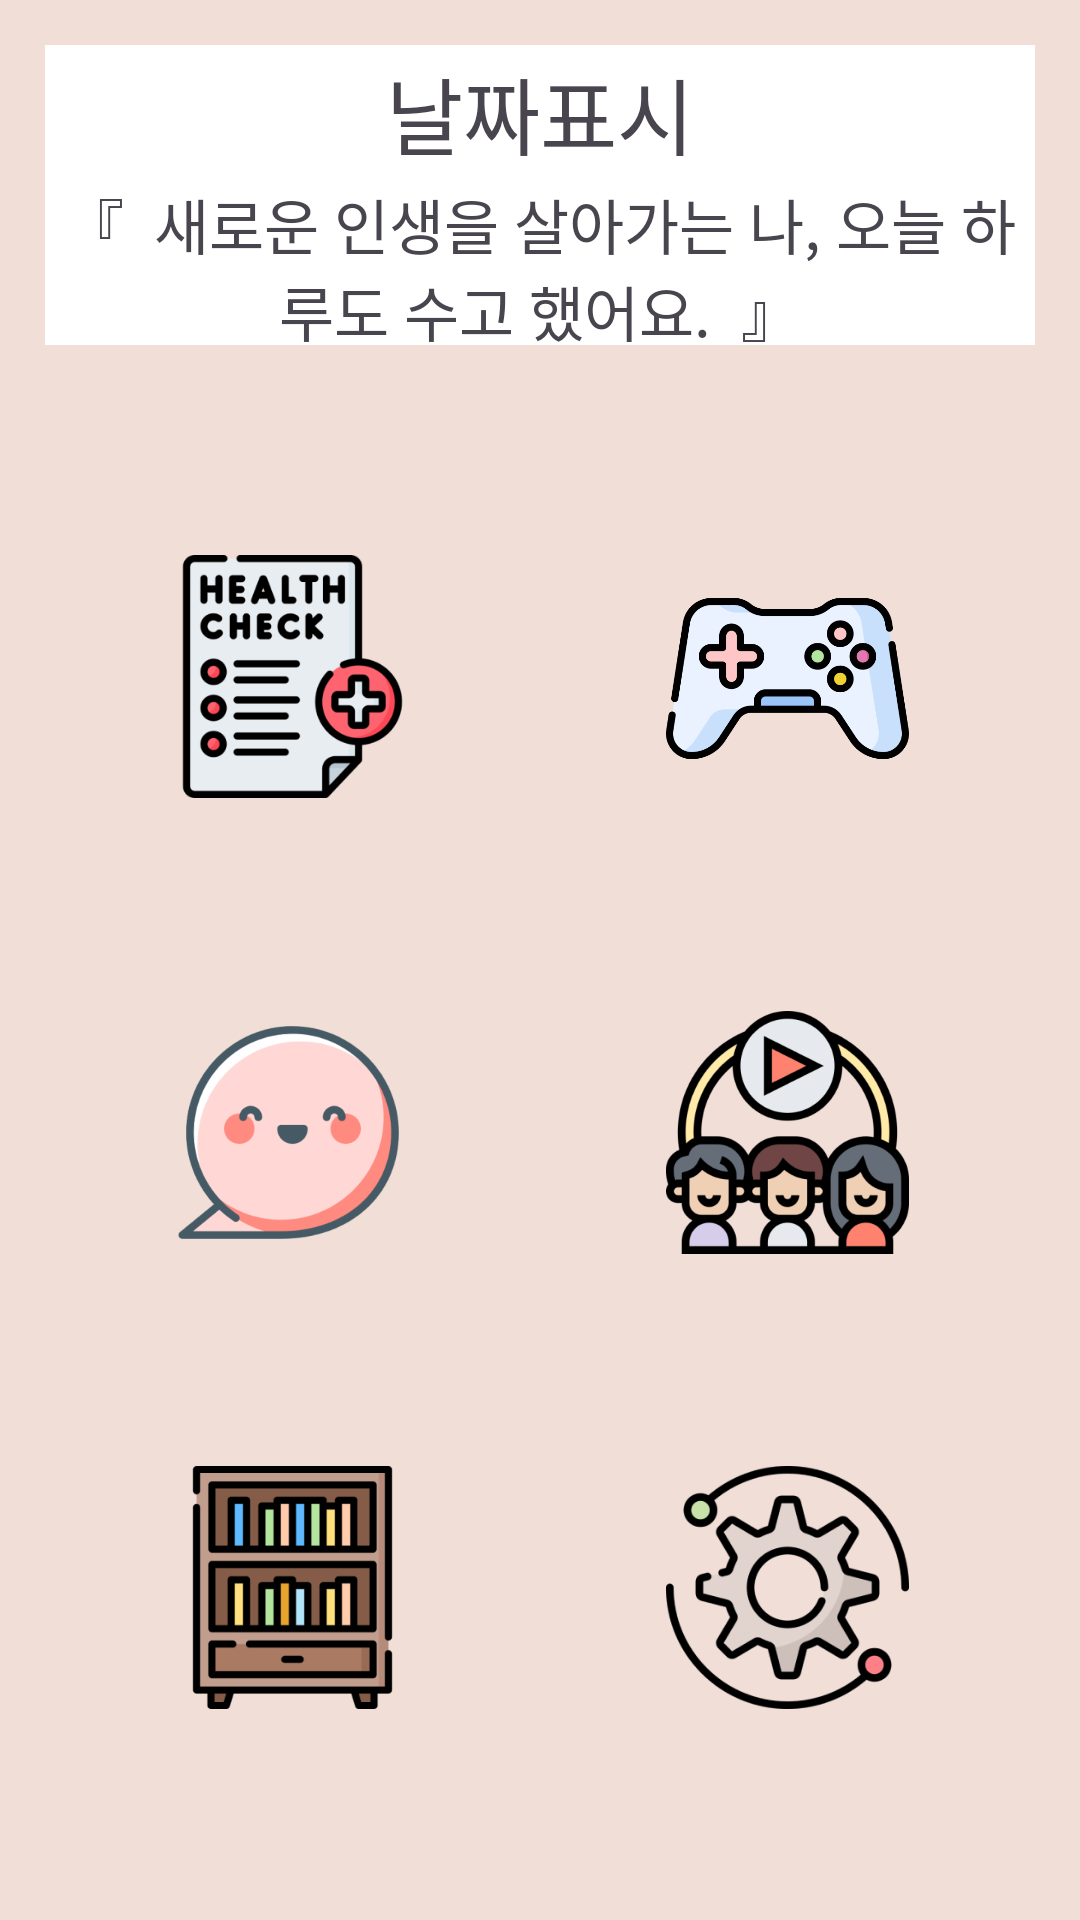

Where to tap for icons on this 1080w x 1920h app screen, as (x,y):
bookshelf: (292,1587)
chatbot: (288,1132)
community: (787,1132)
game: (787,678)
setting: (787,1587)
